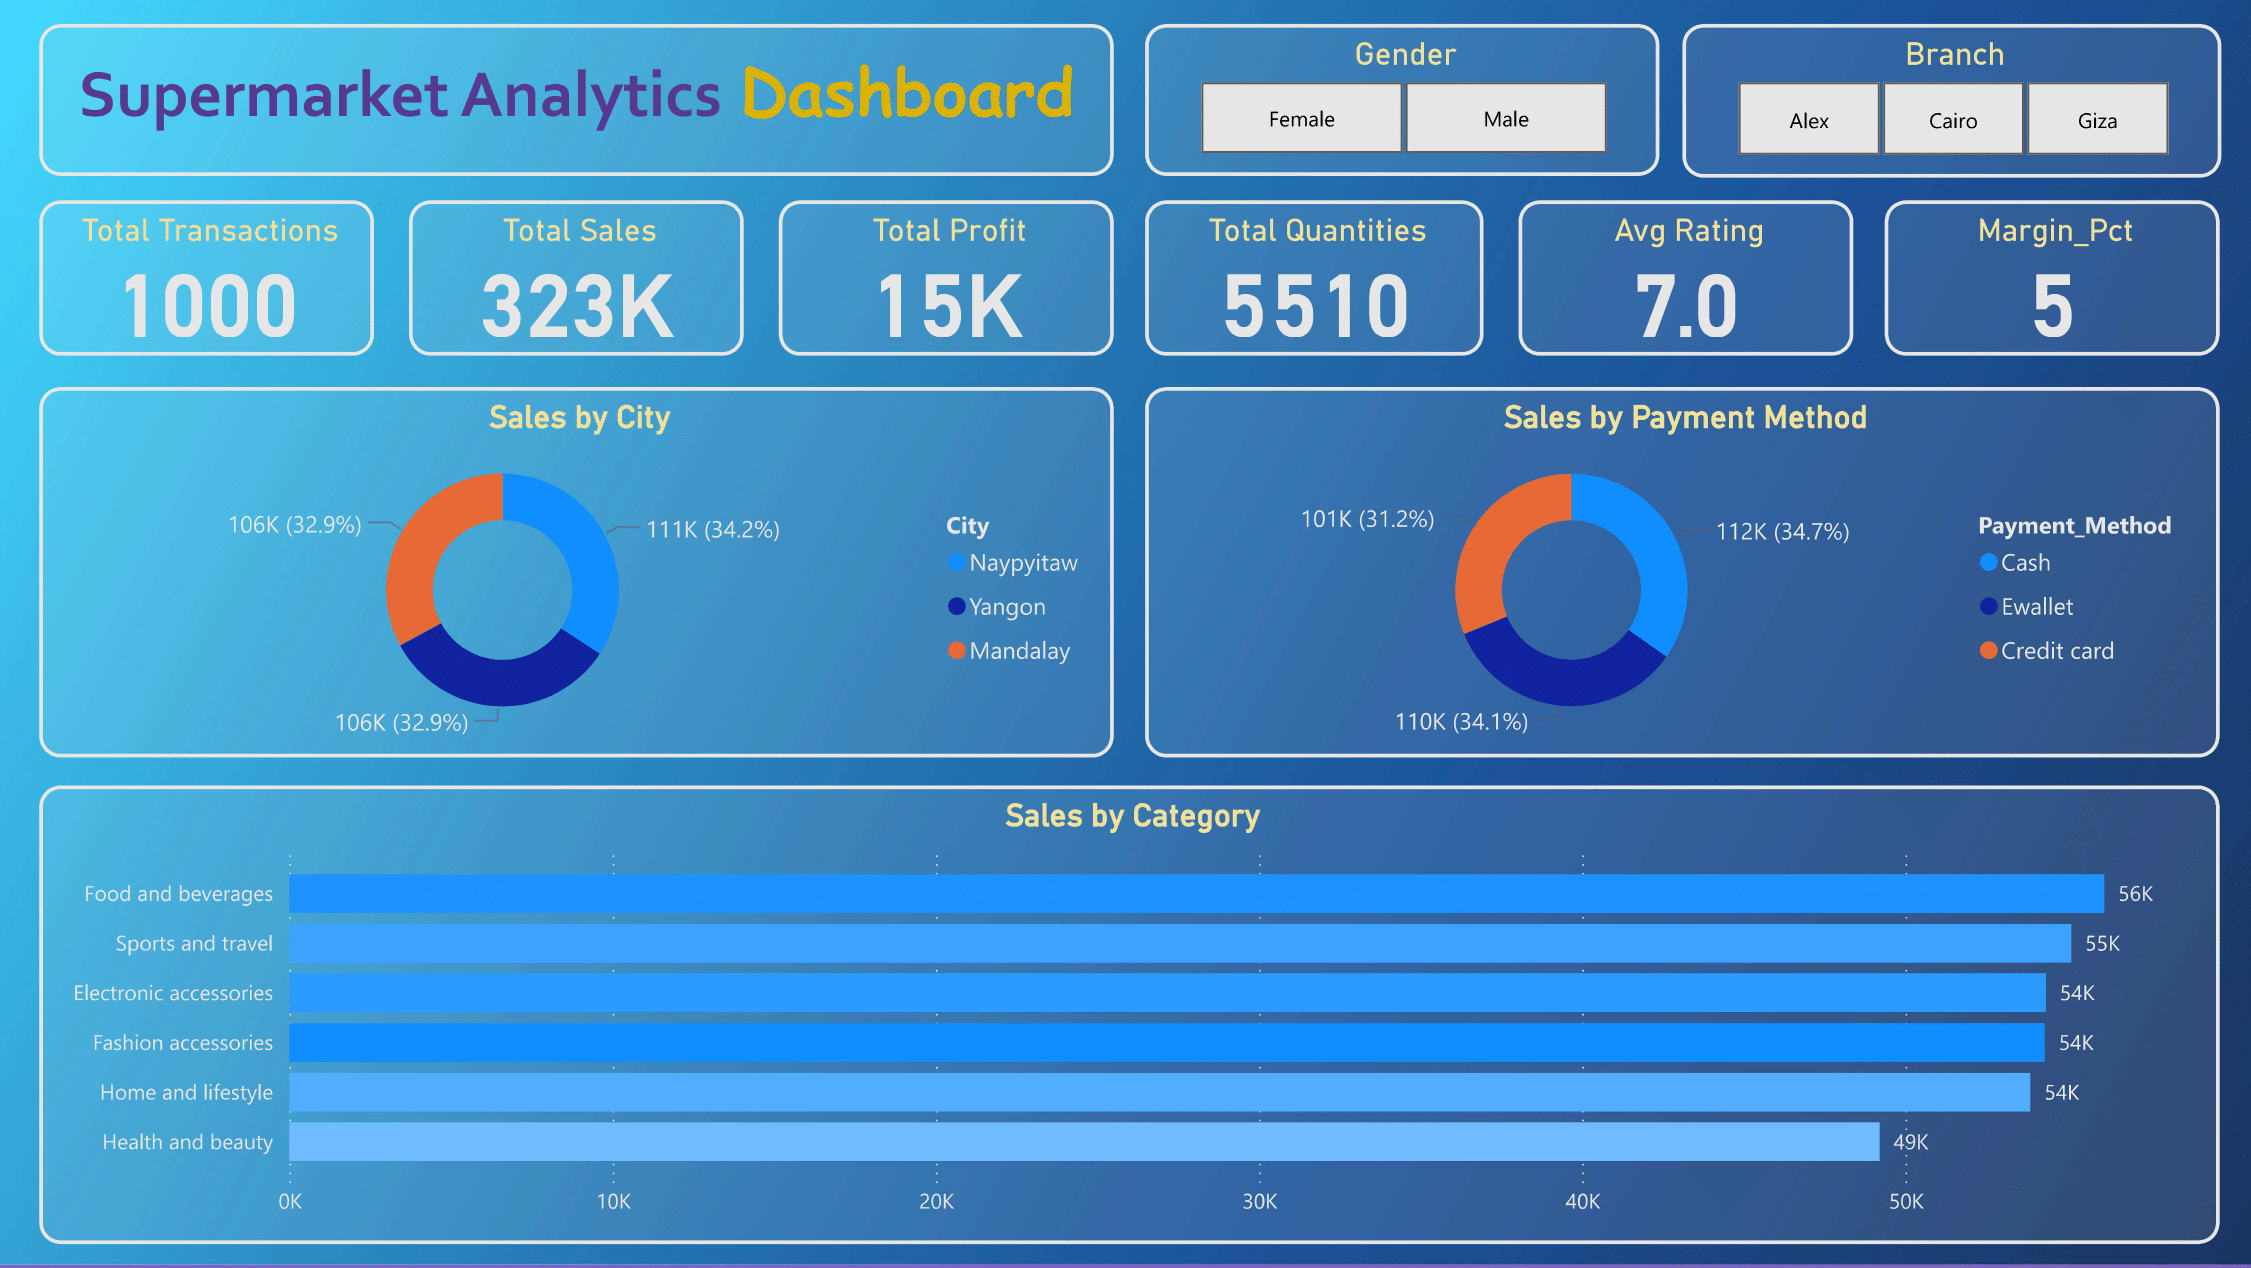

What the dashboard file says about the page in this screenshot:
{"tool":"powerbi","page":{"name":"Overview","canvas":[1280,720],"ordinal":0},"visuals":[{"type":"card","title":"Total Transactions","fields":{"Values":["SuperMarket Analysis.Total_Transactions"]},"box":[22,114,190,88],"z":0},{"type":"card","title":"Total Sales","fields":{"Values":["SuperMarket Analysis.Total_Sales"]},"box":[232,114,190,88],"z":1000},{"type":"card","title":"Total Profit","fields":{"Values":["SuperMarket Analysis.Total_Profit"]},"box":[442,114,190,88],"z":2000},{"type":"card","title":"Total Quantities","fields":{"Values":["Sum(SuperMarket Analysis.Quantity)"]},"box":[650,114,192,88],"z":3000},{"type":"card","title":"Avg Rating","fields":{"Values":["SuperMarket Analysis.Avg_Rating"]},"box":[862,114,190,88],"z":4000},{"type":"card","title":"Margin_Pct","fields":{"Values":["Avg(SuperMarket Analysis.Margin_Pct)"]},"box":[1070,114,190,88],"z":5000},{"type":"clusteredBarChart","title":"Sales by Category","fields":{"Category":["SuperMarket Analysis.Category"],"Y":["Sum(SuperMarket Analysis.Total_Amount)"]},"box":[22,446,1238,260],"z":6000},{"type":"donutChart","title":"Sales by Payment Method","fields":{"Y":["Sum(SuperMarket Analysis.Total_Amount)"],"Category":["SuperMarket Analysis.Payment_Method"]},"box":[650,220,610,210],"z":7000},{"type":"donutChart","title":"Sales by City","fields":{"Y":["Sum(SuperMarket Analysis.Total_Amount)"],"Category":["SuperMarket Analysis.City"]},"box":[22,220,610,210],"z":8000},{"type":"slicer","title":"Branch","fields":{"Values":["SuperMarket Analysis.Branch"]},"box":[954.9,14.1,305.6,86.4],"z":9000},{"type":"textbox","box":[22,14,610,86],"z":10000},{"type":"slicer","title":"Gender","fields":{"Values":["SuperMarket Analysis.Gender"]},"box":[650,14,292,86],"z":11000}]}

Visuals, with their boxes in screenshot pixels (x1, y1, x2, y2), scaled from the page's 1280x720 canvas onto the 2251x1268 screenshot:
"Total Transactions" card: [x1=39, y1=201, x2=373, y2=356]
"Total Sales" card: [x1=408, y1=201, x2=742, y2=356]
"Total Profit" card: [x1=777, y1=201, x2=1111, y2=356]
"Total Quantities" card: [x1=1143, y1=201, x2=1481, y2=356]
"Avg Rating" card: [x1=1516, y1=201, x2=1850, y2=356]
"Margin_Pct" card: [x1=1882, y1=201, x2=2216, y2=356]
"Sales by Category" clusteredBarChart: [x1=39, y1=785, x2=2216, y2=1243]
"Sales by Payment Method" donutChart: [x1=1143, y1=387, x2=2216, y2=757]
"Sales by City" donutChart: [x1=39, y1=387, x2=1111, y2=757]
"Branch" slicer: [x1=1679, y1=25, x2=2217, y2=177]
textbox: [x1=39, y1=25, x2=1111, y2=176]
"Gender" slicer: [x1=1143, y1=25, x2=1657, y2=176]
